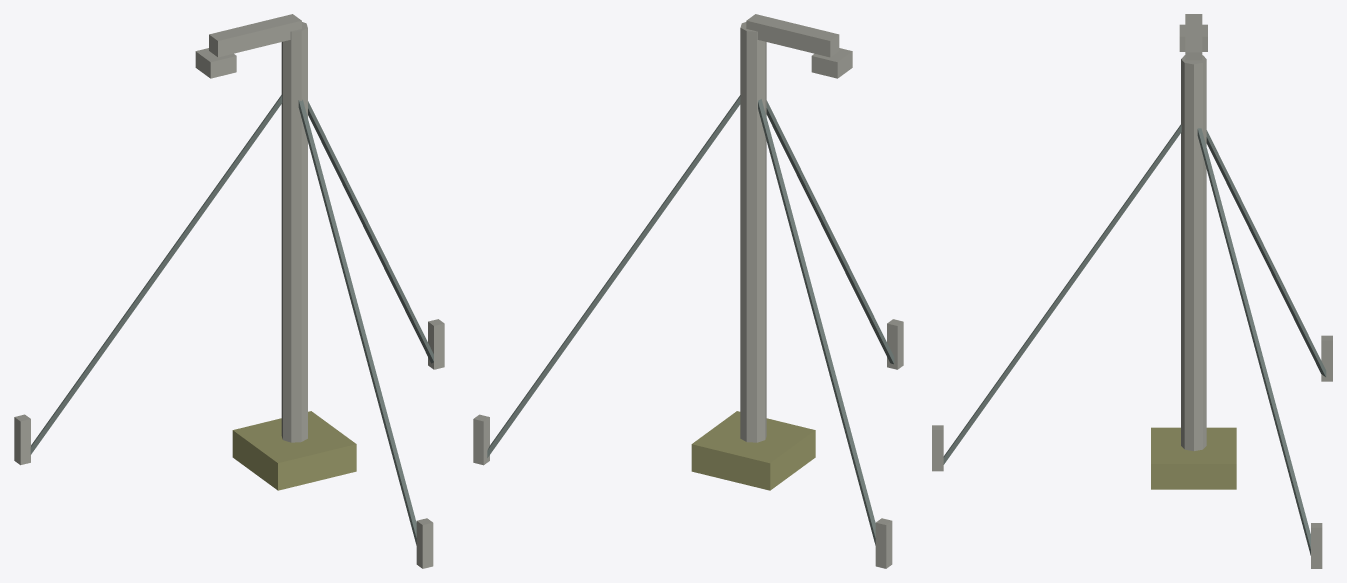
File: SM_PosteFoco_v4_Vientos_LOD0.fbx
3 renders of one model, left to right at view 1: azimuth 30°, elevation 25°; view 2: azimuth 150°, elevation 25°; view 3: azimuth 270°, elevation 25°, orthographic. The views are drawn at different scales.
Visible parts, largest first — view 1: SM_poste_foco_v4_LOD0; view 2: SM_poste_foco_v4_LOD0; view 3: SM_poste_foco_v4_LOD0.
Boxes of the visible parts, x1,y1,x2,y2 form: SM_poste_foco_v4_LOD0: (14,14,444,568); SM_poste_foco_v4_LOD0: (473,14,903,568); SM_poste_foco_v4_LOD0: (932,14,1332,568).
Bounding box in the file's own units: 1.6 × 1.63 × 1.41.
